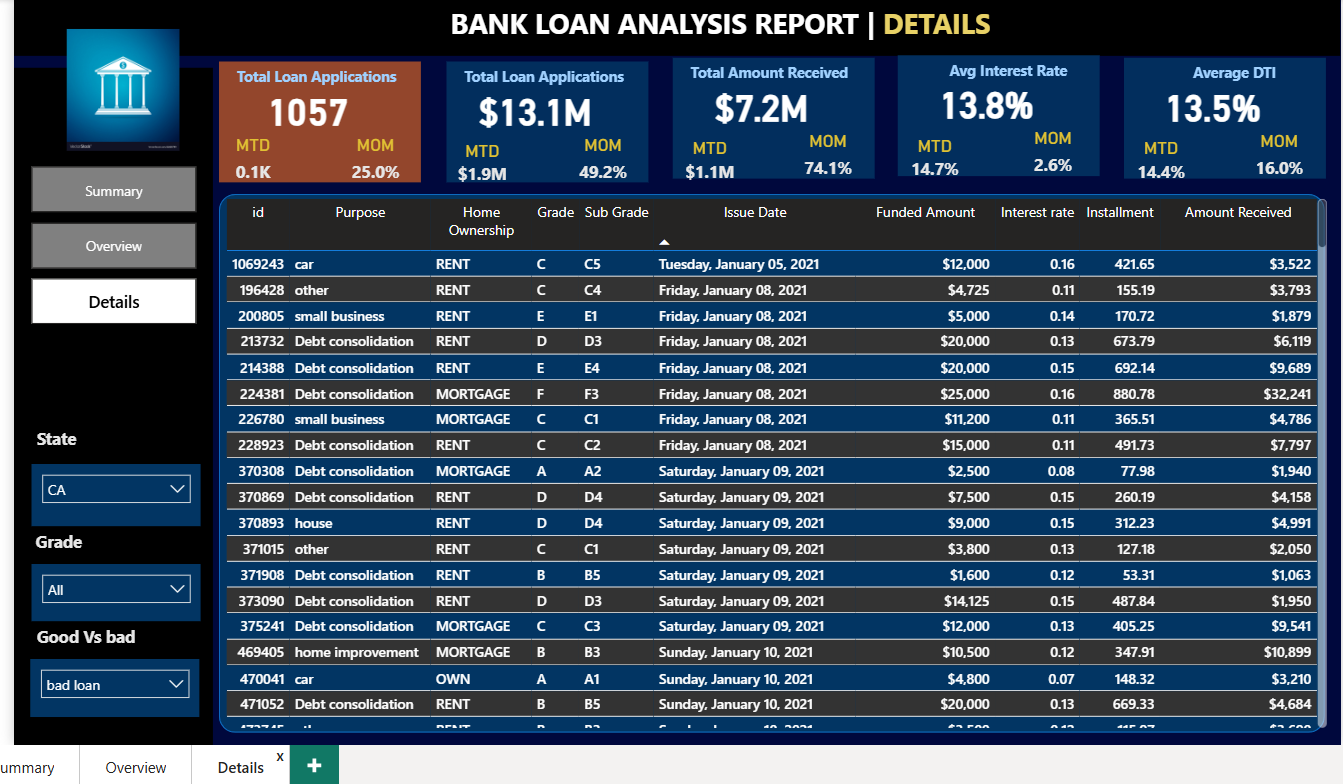

This screenshot's page, from the dashboard's own definition file:
{"tool":"powerbi","page":{"name":"Details","canvas":[1280,720],"ordinal":2},"visuals":[{"type":"shape","box":[0,0,1280.3,54.9],"z":0},{"type":"shape","box":[852.5,54.9,194.9,116.6],"z":0,"group":"g4"},{"type":"shape","box":[634.7,56.3,194.9,116.6],"z":0,"group":"g3"},{"type":"shape","box":[1070.3,56.3,194.9,116.6],"z":0,"group":"g5"},{"type":"shape","box":[197.6,60.4,194.9,116.6],"z":0,"group":"g1"},{"type":"shape","box":[416.8,60.4,194.9,116.6],"z":0,"group":"g2"},{"type":"textbox","box":[415.8,0,616.1,49.4],"z":1000},{"type":"card","fields":{"Values":["bank_loan_data.Avg interest Rate"]},"box":[852.5,67.2,171.5,67.2],"z":1000,"group":"g4"},{"type":"card","fields":{"Values":["bank_loan_data.Total Amount Received"]},"box":[634.7,68.6,171.5,67.2],"z":1000,"group":"g3"},{"type":"card","fields":{"Values":["bank_loan_data.Avg DTI"]},"box":[1070.3,68.6,171.5,67.2],"z":1000,"group":"g5"},{"type":"card","fields":{"Values":["bank_loan_data.Total Loan Applications"]},"box":[197.6,72.7,171.5,67.2],"z":1000,"group":"g1"},{"type":"card","fields":{"Values":["bank_loan_data.Total Funded Amount"]},"box":[416.8,72.7,171.5,67.2],"z":1000,"group":"g2"},{"type":"textbox","box":[864.9,54.9,189.4,39.8],"z":2000,"group":"g4"},{"type":"textbox","box":[647.1,56.3,189.4,39.8],"z":2000,"group":"g3"},{"type":"textbox","box":[1082.7,56.3,189.4,39.8],"z":2000,"group":"g5"},{"type":"group","id":"g1","title":"Group 1","box":[197.6,60.4,201.7,127.6],"z":2000},{"type":"textbox","box":[209.9,60.4,189.4,39.8],"z":2000,"group":"g1"},{"type":"textbox","box":[429.1,60.4,189.4,39.8],"z":2000,"group":"g2"},{"type":"group","id":"g2","title":"Group 1","box":[409.9,60.4,208.6,127.6],"z":3000},{"type":"card","title":"MTD","fields":{"Values":["bank_loan_data.MTD Loan Applications"]},"box":[197.6,130.4,65.9,57.6],"z":3000,"group":"g1"},{"type":"card","title":"MTD","fields":{"Values":["bank_loan_data.MTD Avg Interest Rate"]},"box":[847,131.7,83.7,50.8],"z":3000,"group":"g4"},{"type":"card","title":"MTD","fields":{"Values":["bank_loan_data.MTD Total Amount Received"]},"box":[629.2,133.1,83.7,50.8],"z":3000,"group":"g3"},{"type":"card","title":"MTD","fields":{"Values":["bank_loan_data.MTD Avg DTI"]},"box":[1064.8,133.1,83.7,50.8],"z":3000,"group":"g5"},{"type":"card","title":"MTD","fields":{"Values":["bank_loan_data.MTD Funded Amount"]},"box":[409.9,136.7,83.7,50.8],"z":3000,"group":"g2"},{"type":"group","id":"g3","title":"Group 1","box":[629.2,56.3,207.2,127.6],"z":4000},{"type":"card","title":"MOM","fields":{"Values":["bank_loan_data.MOM Avg Interest Rate"]},"box":[970.5,124.9,65.9,57.6],"z":4000,"group":"g4"},{"type":"card","title":"MOM","fields":{"Values":["bank_loan_data.MOM Total Amount Received"]},"box":[752.7,126.3,65.9,57.6],"z":4000,"group":"g3"},{"type":"card","title":"MOM","fields":{"Values":["bank_loan_data.MOM Avg DTI"]},"box":[1188.3,126.3,65.9,57.6],"z":4000,"group":"g5"},{"type":"card","title":"MOM","fields":{"Values":["bank_loan_data.MOM Loan Application"]},"box":[315.6,130.4,65.9,57.6],"z":4000,"group":"g1"},{"type":"card","title":"MOM","fields":{"Values":["bank_loan_data.MOM Total Funded Amount"]},"box":[534.8,130.4,65.9,57.6],"z":4000,"group":"g2"},{"type":"group","id":"g4","title":"Group 1","box":[847,54.9,207.2,127.6],"z":5000},{"type":"group","id":"g5","title":"Group 1","box":[1064.8,56.3,207.2,127.6],"z":6000},{"type":"shape","box":[197.6,188,1067.6,520.1],"z":7000},{"type":"textbox","box":[216.8,473.4,120.8,24.7],"z":8000},{"type":"slicer","fields":{"Values":["bank_loan_data.address_state"]},"box":[0,444.6,190.7,57.6],"z":9000},{"type":"shape","box":[0,65.9,192.1,654.5],"z":10000},{"type":"slicer","fields":{"Values":["bank_loan_data.address_state"]},"box":[16.5,448.7,163.3,60.4],"z":11000},{"type":"textbox","box":[16.5,407.5,161.9,37],"z":12000},{"type":"slicer","fields":{"Values":["bank_loan_data.grade"]},"box":[16.5,544.8,163.3,54.9],"z":13000},{"type":"textbox","box":[15.1,507.7,161.9,37],"z":14000},{"type":"slicer","fields":{"Values":["bank_loan_data.good vs bad"]},"box":[15.1,636.7,163.3,56.3],"z":15000},{"type":"textbox","box":[16.5,599.7,161.9,37],"z":16000},{"type":"tableEx","fields":{"Values":["bank_loan_data.id","bank_loan_data.purpose","bank_loan_data.home_ownership","bank_loan_data.grade","bank_loan_data.sub_grade","bank_loan_data.issue_date","bank_loan_data.Total Funded Amount","Sum(bank_loan_data.int_rate)","Sum(bank_loan_data.installment)","bank_loan_data.Total Amount Received"]},"box":[199,188,1073.1,520.1],"z":17000},{"type":"pageNavigator","box":[16.5,161.9,159.2,153.7],"z":18000},{"type":"image","box":[17.8,24.7,174.3,127.6],"z":19000}]}

Visuals, with their boxes on the page's 1280x720 design canvas (x1, y1, x2, y2). These are canvas units, not pixel positions in the 1343x784 screenshot, which may show the page scaled, cropped or inside an application window:
shape: select_region(0, 0, 1280, 55)
shape: select_region(852, 55, 1047, 172)
shape: select_region(635, 56, 830, 173)
shape: select_region(1070, 56, 1265, 173)
shape: select_region(198, 60, 392, 177)
shape: select_region(417, 60, 612, 177)
textbox: select_region(416, 0, 1032, 49)
card - bank_loan_data.Avg interest Rate: select_region(852, 67, 1024, 134)
card - bank_loan_data.Total Amount Received: select_region(635, 69, 806, 136)
card - bank_loan_data.Avg DTI: select_region(1070, 69, 1242, 136)
card - bank_loan_data.Total Loan Applications: select_region(198, 73, 369, 140)
card - bank_loan_data.Total Funded Amount: select_region(417, 73, 588, 140)
textbox: select_region(865, 55, 1054, 95)
textbox: select_region(647, 56, 836, 96)
textbox: select_region(1083, 56, 1272, 96)
"Group 1" group: select_region(198, 60, 399, 188)
textbox: select_region(210, 60, 399, 100)
textbox: select_region(429, 60, 618, 100)
"Group 1" group: select_region(410, 60, 618, 188)
"MTD" card: select_region(198, 130, 264, 188)
"MTD" card: select_region(847, 132, 931, 182)
"MTD" card: select_region(629, 133, 713, 184)
"MTD" card: select_region(1065, 133, 1148, 184)
"MTD" card: select_region(410, 137, 494, 188)
"Group 1" group: select_region(629, 56, 836, 184)
"MOM" card: select_region(970, 125, 1036, 182)
"MOM" card: select_region(753, 126, 819, 184)
"MOM" card: select_region(1188, 126, 1254, 184)
"MOM" card: select_region(316, 130, 382, 188)
"MOM" card: select_region(535, 130, 601, 188)
"Group 1" group: select_region(847, 55, 1054, 182)
"Group 1" group: select_region(1065, 56, 1272, 184)
shape: select_region(198, 188, 1265, 708)
textbox: select_region(217, 473, 338, 498)
slicer - bank_loan_data.address_state: select_region(0, 445, 191, 502)
shape: select_region(0, 66, 192, 720)
slicer - bank_loan_data.address_state: select_region(16, 449, 180, 509)
textbox: select_region(16, 408, 178, 444)
slicer - bank_loan_data.grade: select_region(16, 545, 180, 600)
textbox: select_region(15, 508, 177, 545)
slicer - bank_loan_data.good vs bad: select_region(15, 637, 178, 693)
textbox: select_region(16, 600, 178, 637)
tableEx - bank_loan_data.id x bank_loan_data.purpose: select_region(199, 188, 1272, 708)
pageNavigator: select_region(16, 162, 176, 316)
image: select_region(18, 25, 192, 152)
